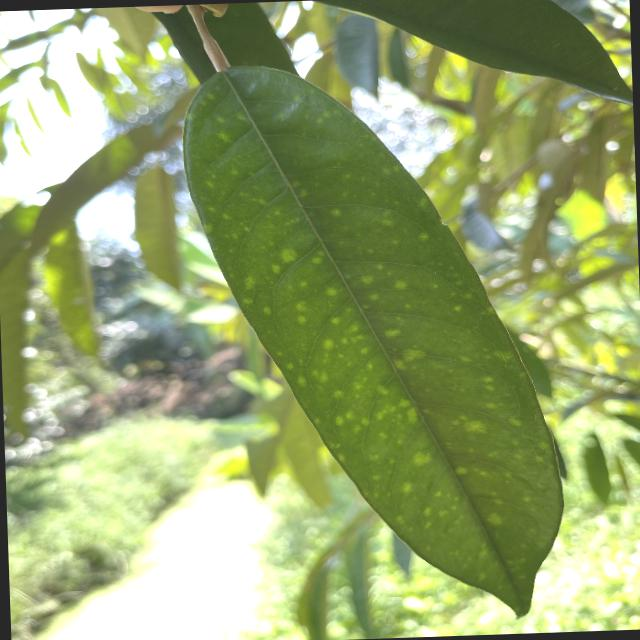Leaf Spot: (170, 49, 576, 636)
